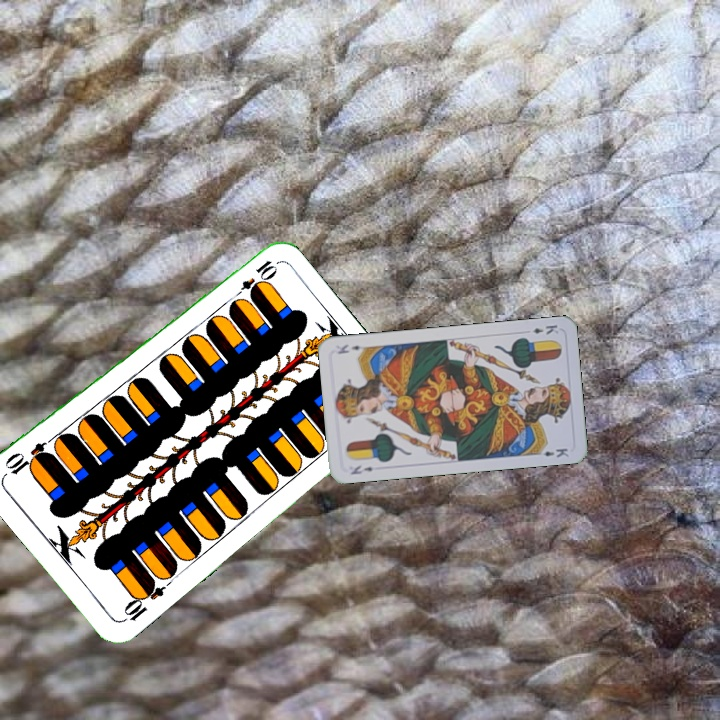E10: (119, 576, 168, 625), (228, 256, 278, 302)
EK: (529, 321, 561, 337), (347, 461, 375, 477)
